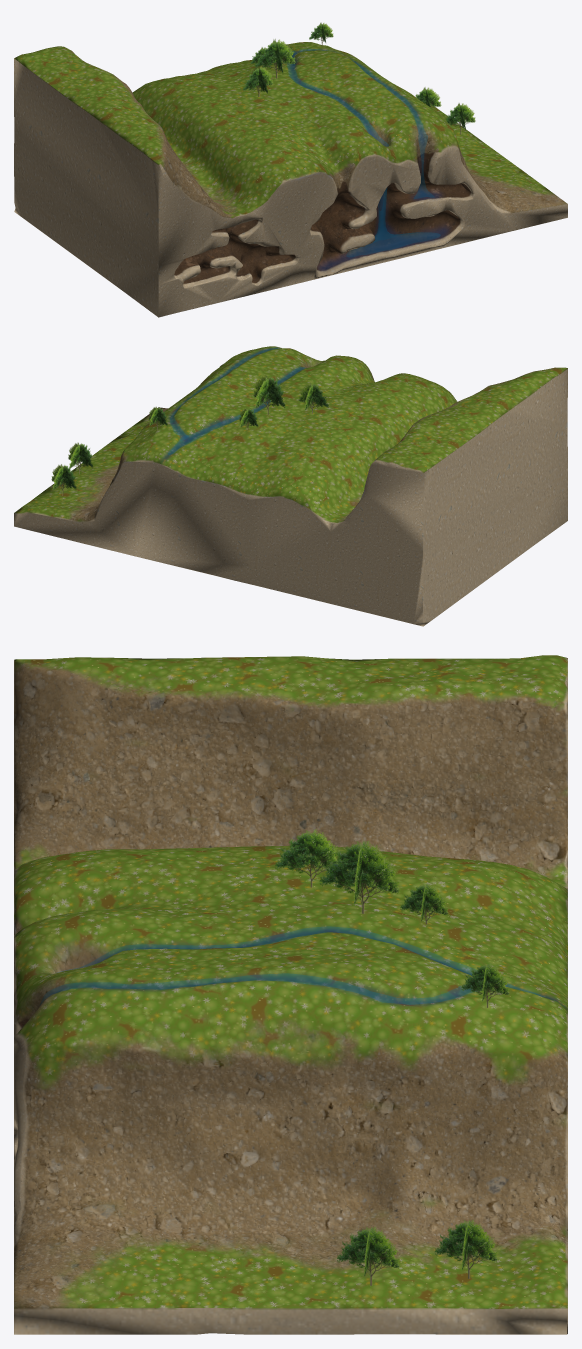
The model's file is 喀斯特地貌和侵蚀循环.glb.
3 views of the same model, one above another, from view 1: azimuth 30°, elevation 25°; view 2: azimuth 150°, elevation 25°; view 3: azimuth 270°, elevation 25° (orthographic). The views are drawn at different scales.
Visible parts, largest first — view 1: pCube1, pCube5, pPlane4, pPlane3, pPlane8; view 2: pCube1, pCube5, pPlane4, pPlane3, pPlane8, pPlane7; view 3: pCube1, pCube5, pPlane4, pPlane3, pPlane8, pPlane7, pPlane6, pPlane5.
Part boxes in pixels (x1=…): pCube1: x1=14, y1=42, x2=567, y2=317; pCube5: x1=287, y1=49, x2=440, y2=256; pPlane4: x1=254, y1=39, x2=295, y2=78; pPlane3: x1=243, y1=66, x2=273, y2=96; pPlane8: x1=446, y1=103, x2=475, y2=134; pCube1: x1=14, y1=346, x2=567, y2=626; pCube5: x1=168, y1=347, x2=304, y2=454; pPlane4: x1=253, y1=375, x2=285, y2=414; pPlane3: x1=298, y1=383, x2=328, y2=413; pPlane8: x1=68, y1=442, x2=93, y2=474; pPlane7: x1=51, y1=464, x2=76, y2=495; pCube1: x1=14, y1=655, x2=567, y2=1334; pCube5: x1=40, y1=926, x2=543, y2=1004; pPlane4: x1=319, y1=840, x2=400, y2=913; pPlane3: x1=275, y1=829, x2=338, y2=887; pPlane8: x1=337, y1=1226, x2=400, y2=1286; pPlane7: x1=434, y1=1220, x2=498, y2=1278; pPlane6: x1=461, y1=963, x2=509, y2=1008; pPlane5: x1=400, y1=883, x2=448, y2=924.
Bounding box in the file's own units: 0.2458 × 0.093 × 0.1491.
Materials: 3 (3 with a texture image).
